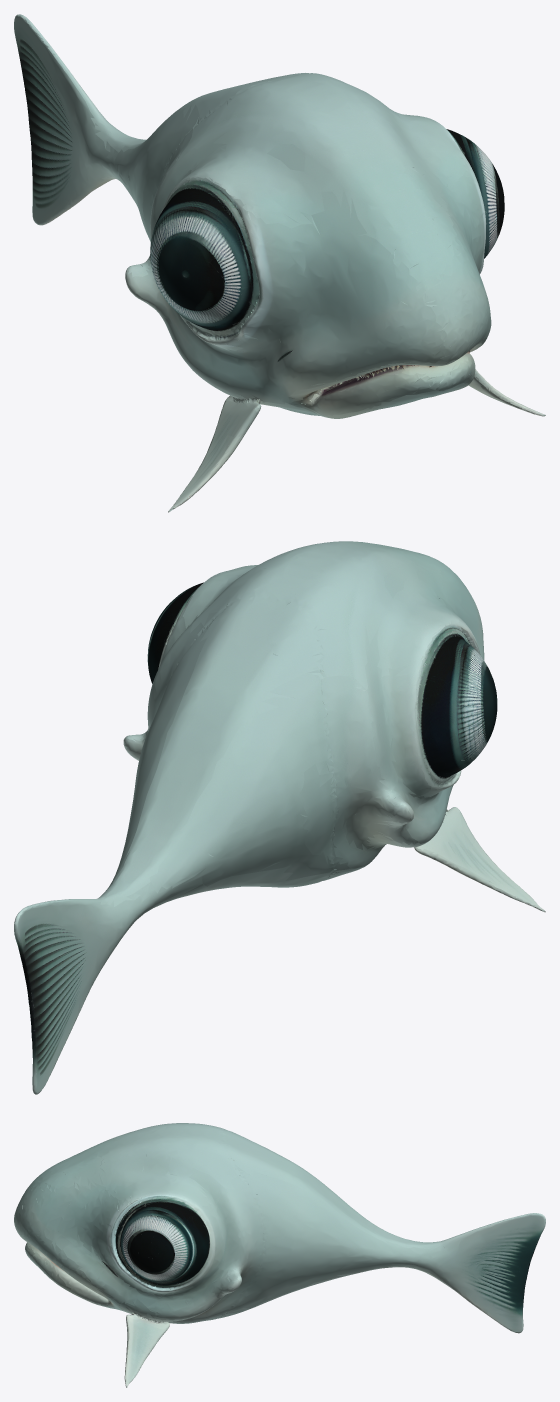
Rendered from the_looker.glb.
The picture shows the model from 3 angles, top to bottom: view 1: azimuth 30°, elevation 25°; view 2: azimuth 150°, elevation 25°; view 3: azimuth 270°, elevation 25°; orthographic projection. The views are drawn at different scales.
Bounding box in the file's own units: 0.9441 × 0.8095 × 1.9.
Materials: 1 (1 with a texture image).
